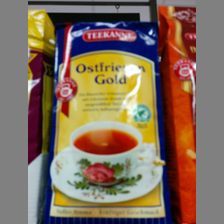tea: (44, 20, 173, 223)
